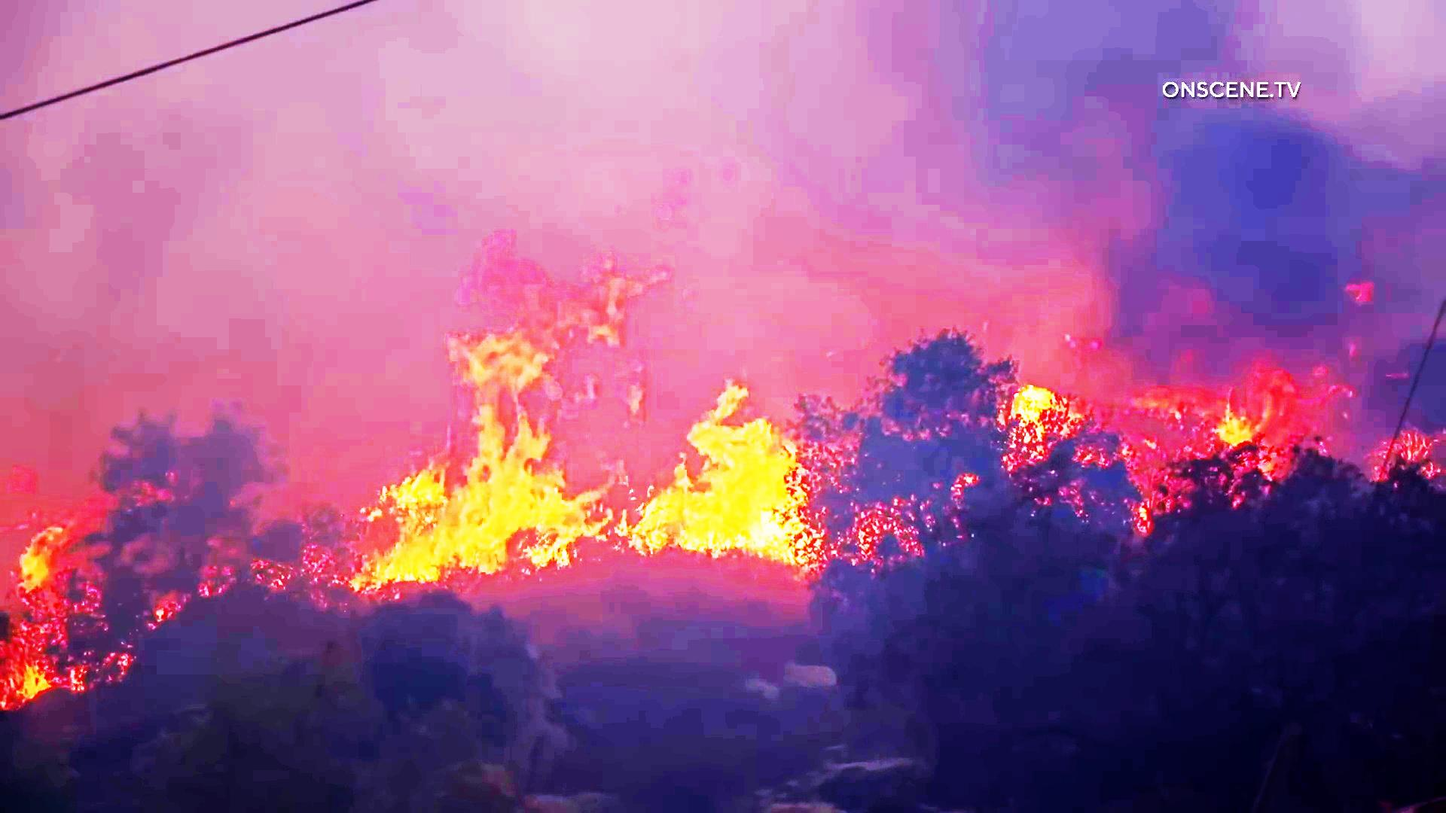fire: (374, 224, 644, 581), (661, 382, 810, 553), (0, 507, 93, 705), (1127, 377, 1320, 472)
smoke: (17, 6, 323, 448), (1087, 130, 1446, 339)
